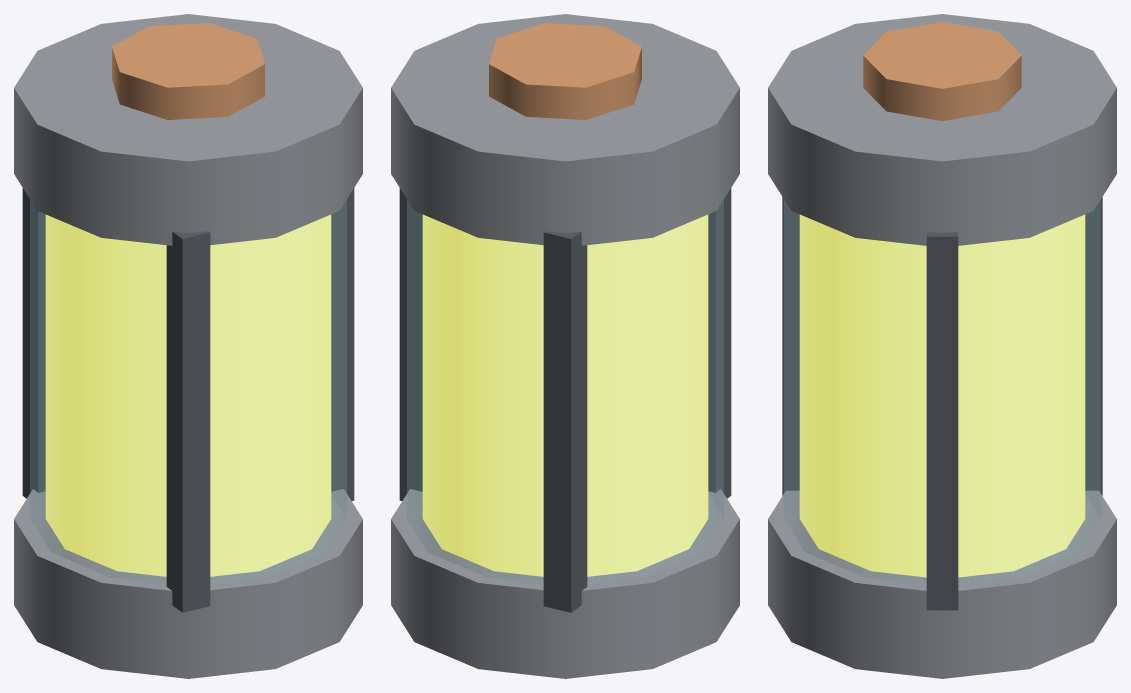
The model's file is item_fuel_cell.glb.
3 views of the same model, side by side, from view 1: azimuth 30°, elevation 25°; view 2: azimuth 150°, elevation 25°; view 3: azimuth 270°, elevation 25° (orthographic).
Parts seen in each view (by area): view 1: fuel_cell; view 2: fuel_cell; view 3: fuel_cell.
Part boxes in pixels (left/top/right/bottom): fuel_cell: left=14, top=14, right=362, bottom=678; fuel_cell: left=391, top=14, right=739, bottom=678; fuel_cell: left=768, top=14, right=1116, bottom=678.
Size of the model in its own units: 0.225 by 0.405 by 0.22.
